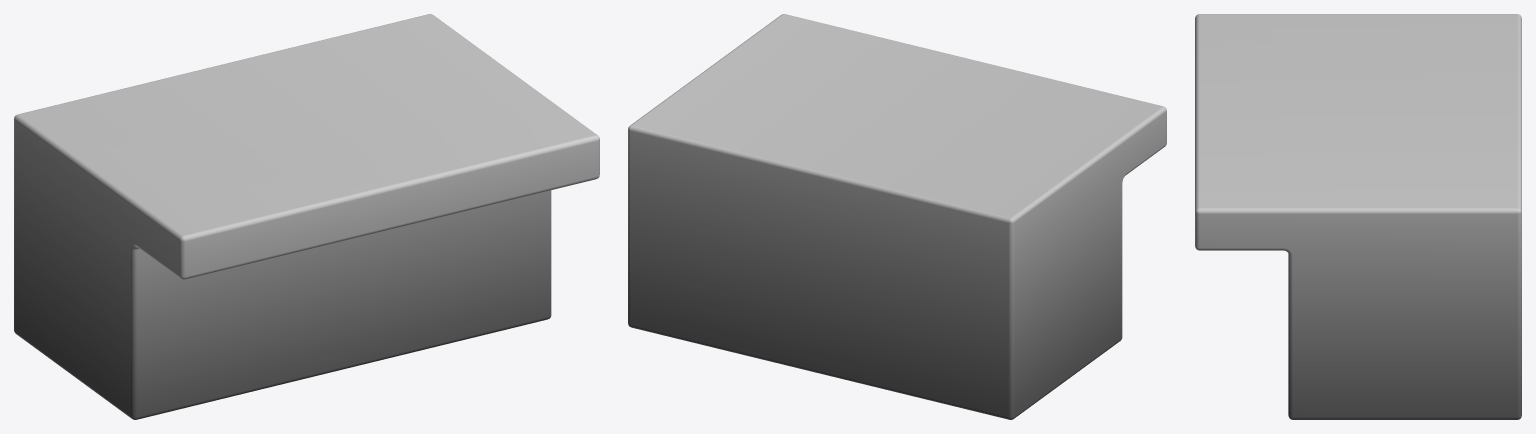
Rendered from HH_Counter_2UnitF.fbx.
3 renders of one model, left to right at view 1: azimuth 30°, elevation 25°; view 2: azimuth 150°, elevation 25°; view 3: azimuth 270°, elevation 25°, orthographic. The views are drawn at different scales.
Visible parts, largest first — view 1: Counter_2UnitF; view 2: Counter_2UnitF; view 3: Counter_2UnitF.
Boxes of the visible parts, x1,y1,x2,y2 form: Counter_2UnitF: [14, 14, 599, 419]; Counter_2UnitF: [628, 14, 1166, 419]; Counter_2UnitF: [1195, 14, 1521, 419].
Bounding box in the file's own units: 200 × 100 × 140.
Materials: 1 (1 with a texture image).
